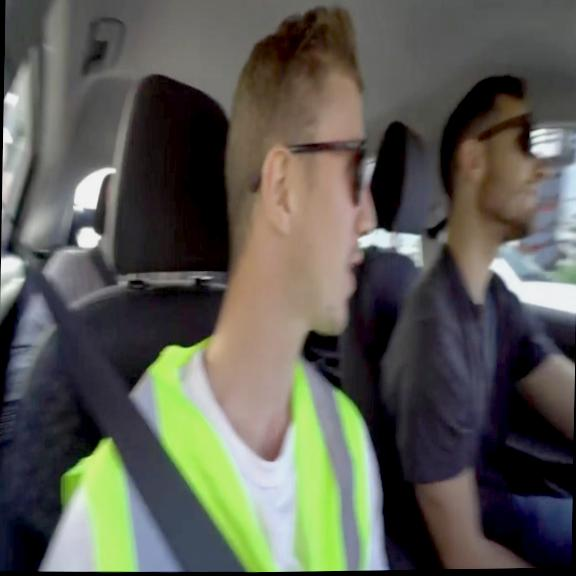safety_vest: (54, 312, 372, 575)
